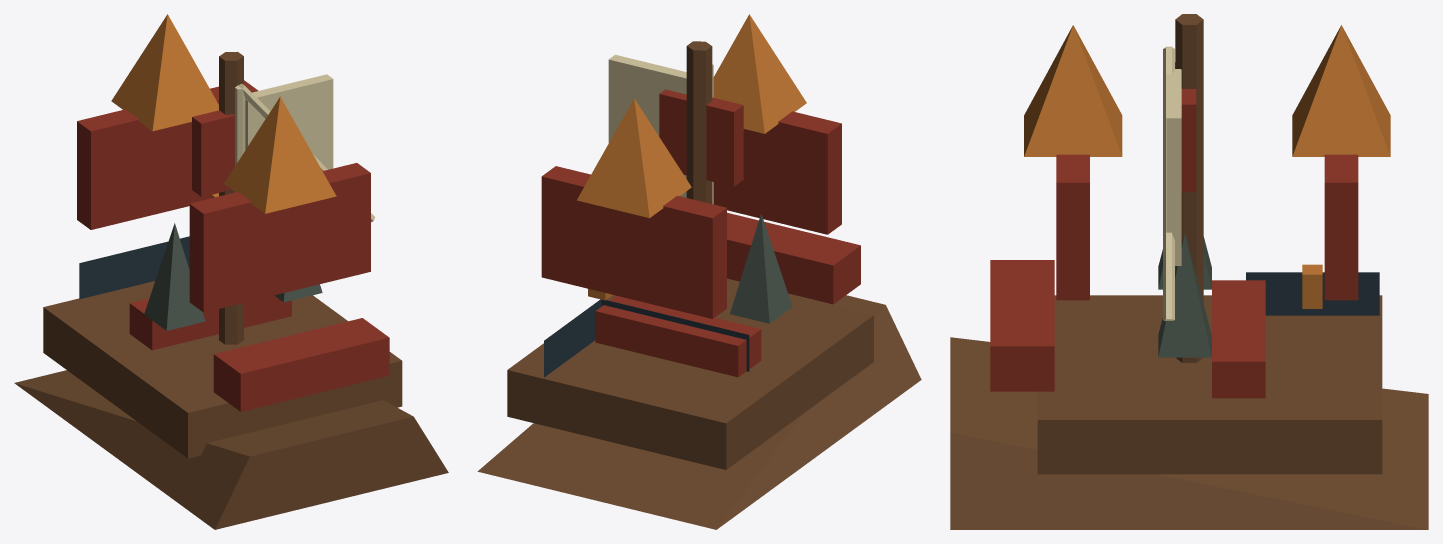
Rendered from legendary-warship.obj.
3 views of the same model, side by side, from view 1: azimuth 30°, elevation 25°; view 2: azimuth 150°, elevation 25°; view 3: azimuth 270°, elevation 25° (orthographic). The views are drawn at different scales.
Visible parts, largest first — view 1: ship; view 2: ship; view 3: ship.
Part boxes in pixels (box(x1,y1,x2,y2)): ship: box(14, 14, 448, 529); ship: box(477, 14, 921, 529); ship: box(950, 14, 1428, 529).
Size of the model in its own units: 1.54 by 2.18 by 2.14.
